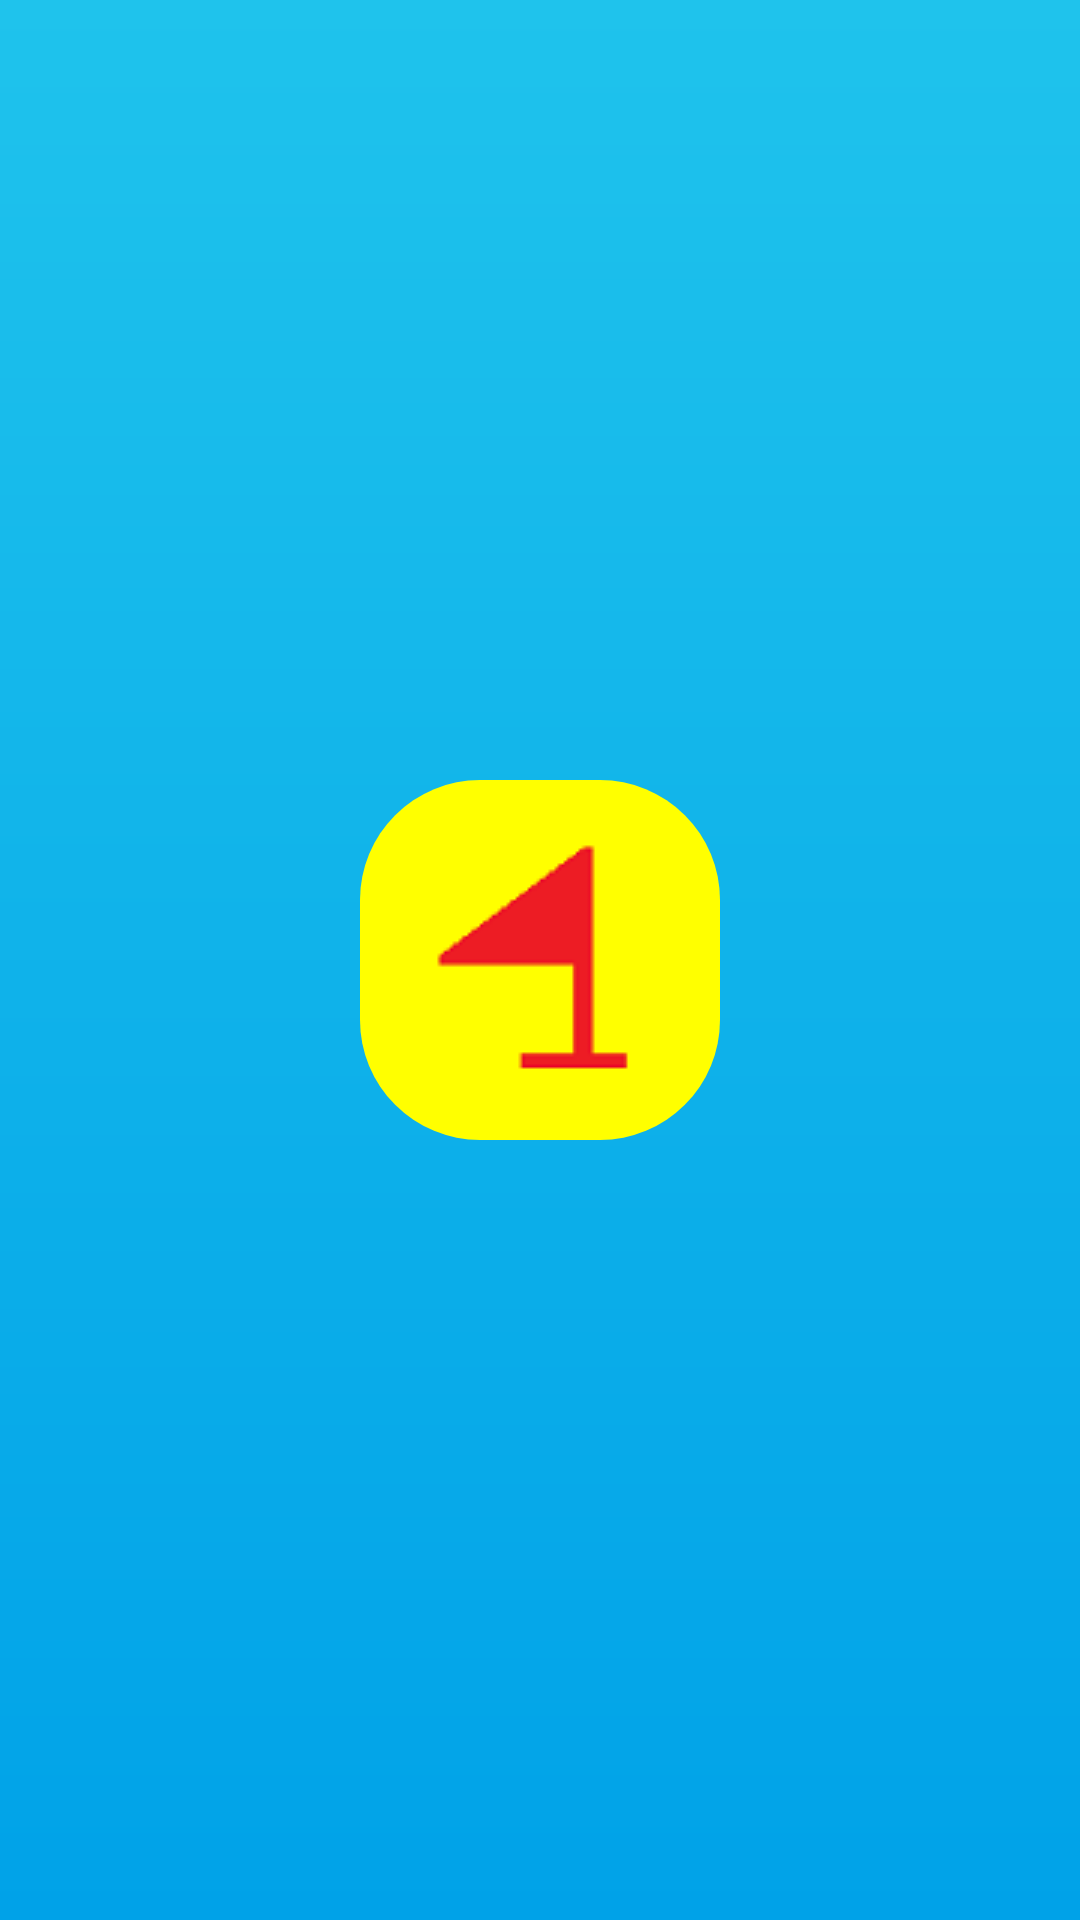

Icons on this 1080px x 1920px Android screen, each with its box as (x1, y1, x2, y2):
flag: (360, 780, 720, 1140)
